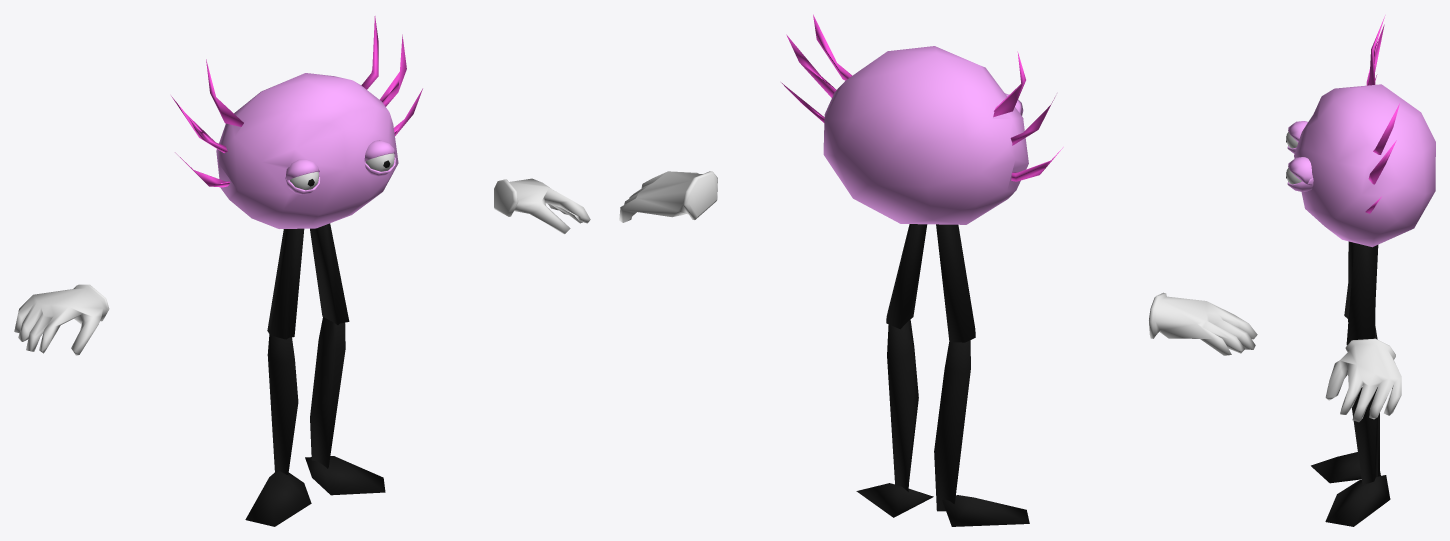
File: Kinito.glb
3 views of the same model, side by side, from view 1: azimuth 30°, elevation 25°; view 2: azimuth 150°, elevation 25°; view 3: azimuth 270°, elevation 25° (orthographic). The views are drawn at different scales.
Parts seen in each view (by area): view 1: Head, L_Leg, R_Leg, R_Hand, L_Hand; view 2: Head, L_Leg, R_Leg, R_Hand, L_Hand; view 3: Head, R_Leg, L_Hand, L_Leg, R_EyeLid2, L_EyeLid2, R_EyeLid1.
Boxes of the visible parts, box(x1,y1,x2,y2) form: Head: box(171, 16, 422, 228); L_Leg: box(245, 228, 311, 526); R_Leg: box(305, 223, 385, 495); R_Hand: box(14, 284, 109, 355); L_Hand: box(494, 178, 590, 234); Head: box(781, 14, 1063, 224); L_Leg: box(934, 224, 1029, 526); R_Leg: box(856, 224, 933, 517); R_Hand: box(1149, 292, 1257, 355); L_Hand: box(619, 171, 717, 222); Head: box(1294, 15, 1435, 247); R_Leg: box(1325, 241, 1390, 526); L_Hand: box(1325, 338, 1401, 422); L_Leg: box(1311, 245, 1380, 483); R_EyeLid2: box(1288, 157, 1312, 185); L_EyeLid2: box(1288, 121, 1307, 142); R_EyeLid1: box(1287, 178, 1313, 191).
Size of the model in its own units: 9.78 by 7.49 by 2.33.
